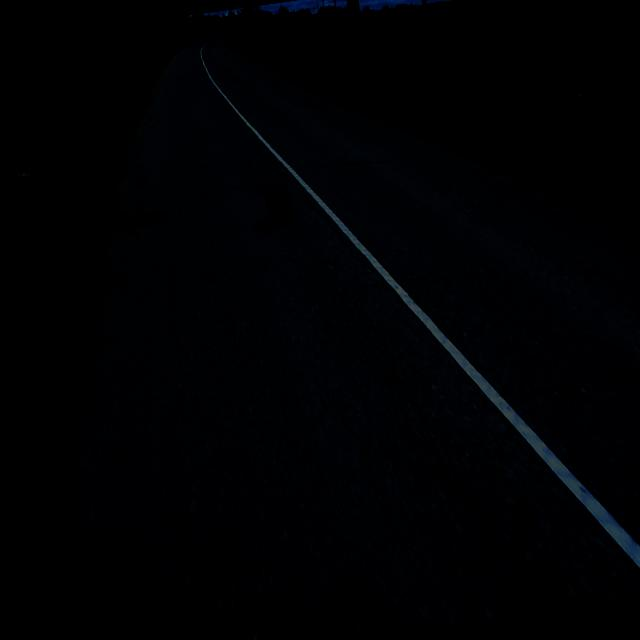road: (30, 31, 640, 640)
